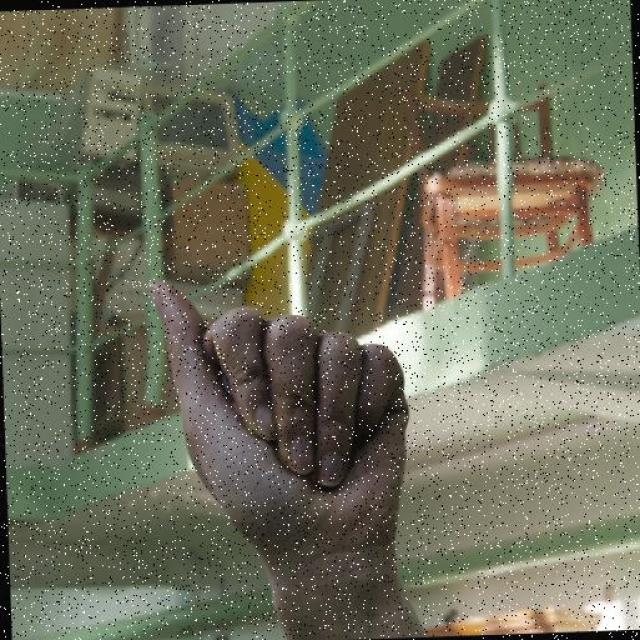A: (142, 262, 420, 554)
